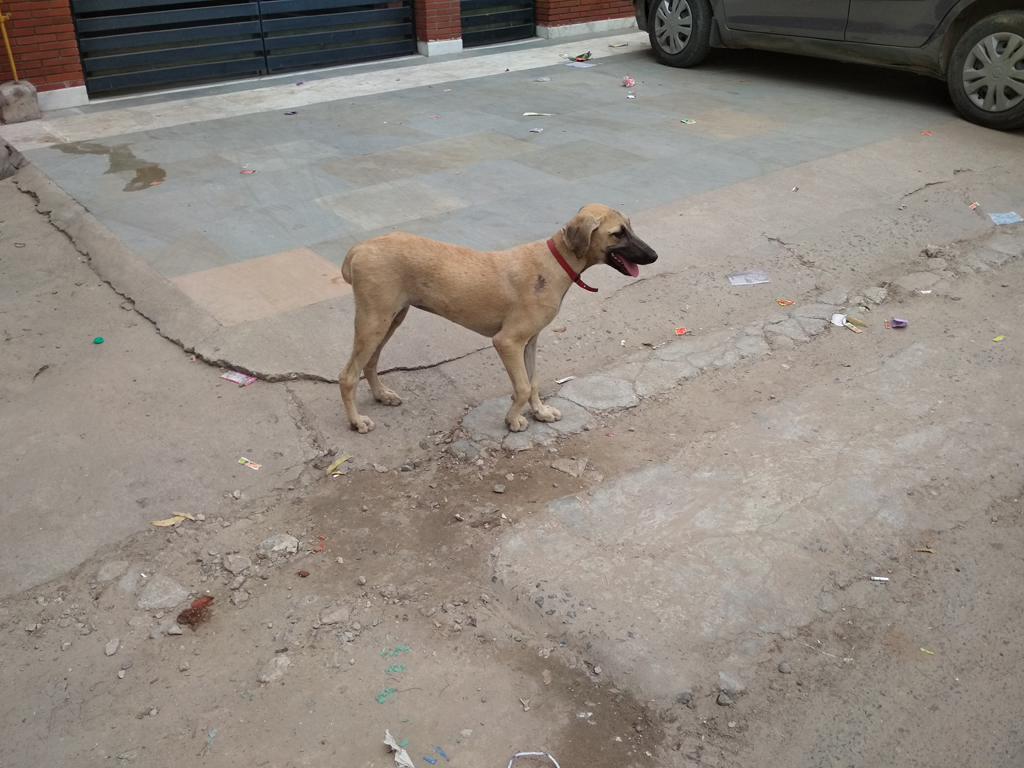dog: (341, 201, 661, 432)
